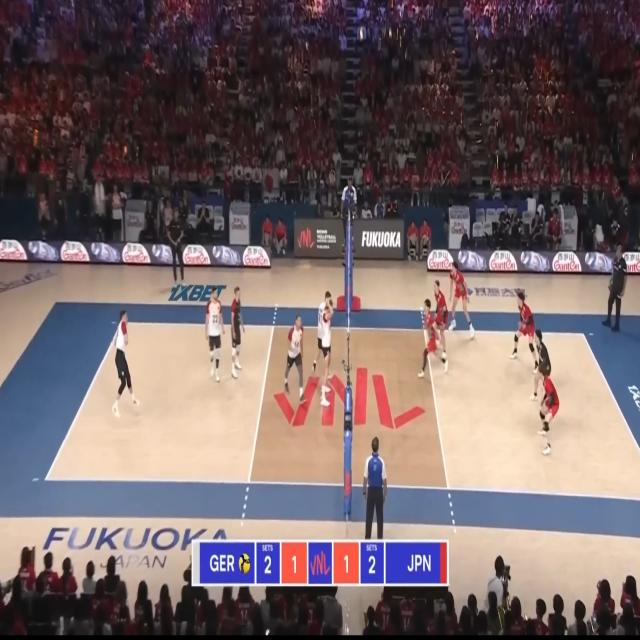ball: (298, 259, 310, 270)
